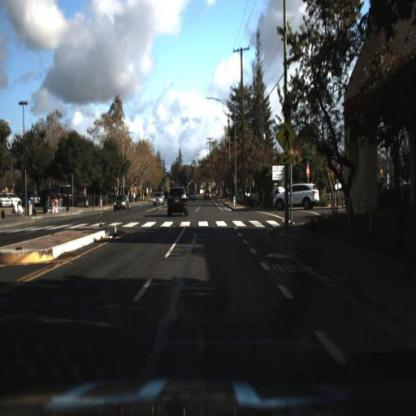car: (162, 178, 196, 225), (272, 179, 319, 211), (165, 186, 190, 220), (28, 190, 46, 208), (115, 193, 130, 214), (154, 190, 167, 208), (202, 187, 214, 203), (188, 191, 199, 204)
pedestrian: (64, 190, 72, 215), (259, 183, 267, 207), (133, 190, 138, 208)
